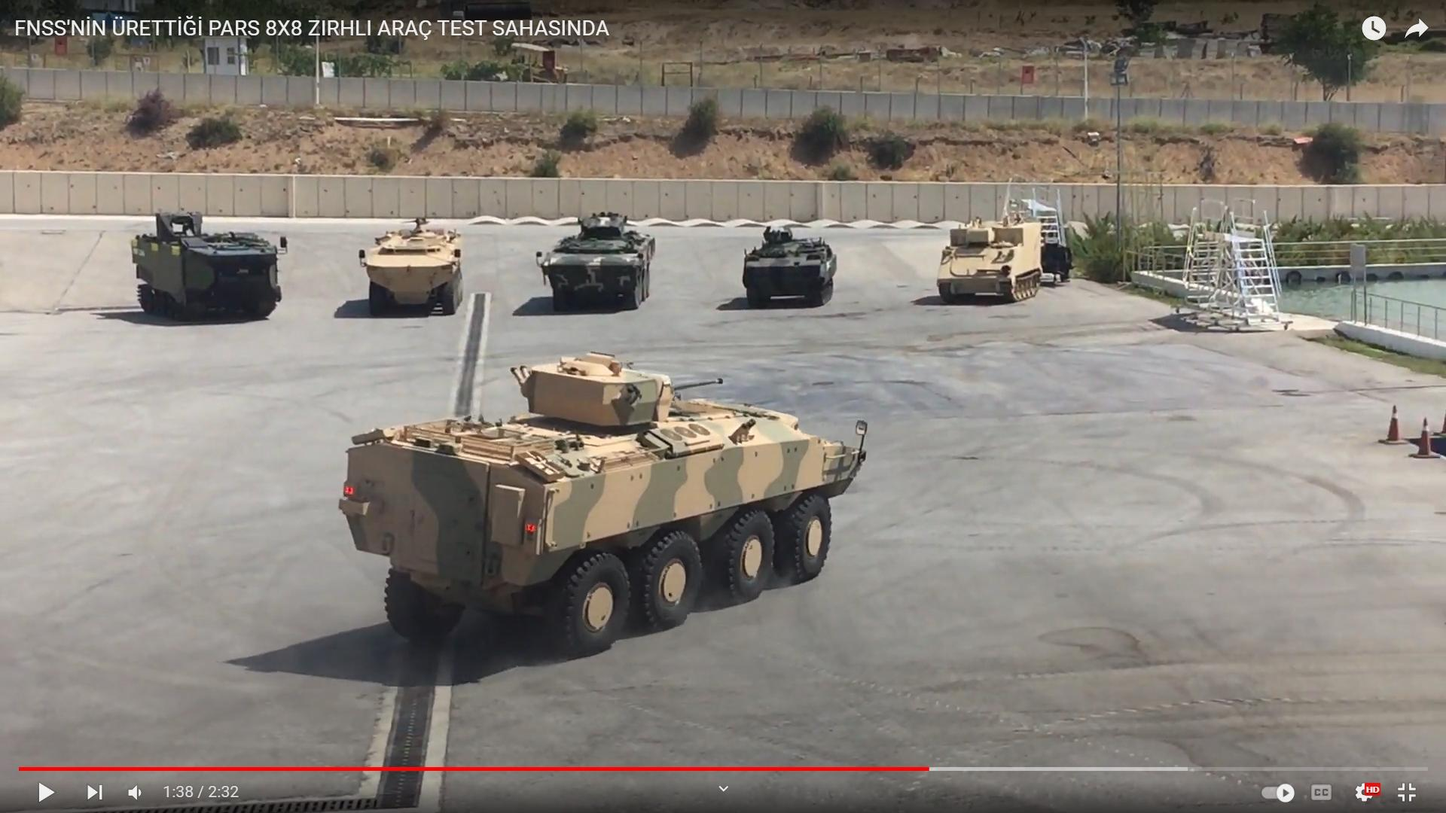armored_car: (337, 341, 871, 660), (536, 214, 657, 314), (355, 221, 474, 320), (735, 218, 845, 311), (935, 217, 1047, 305)
